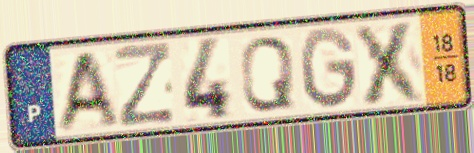4: (180, 34, 237, 123)
A: (52, 47, 122, 135)
G: (297, 24, 360, 112)
Q: (237, 34, 297, 115)
X: (351, 17, 430, 108)
Z: (111, 39, 178, 132)
